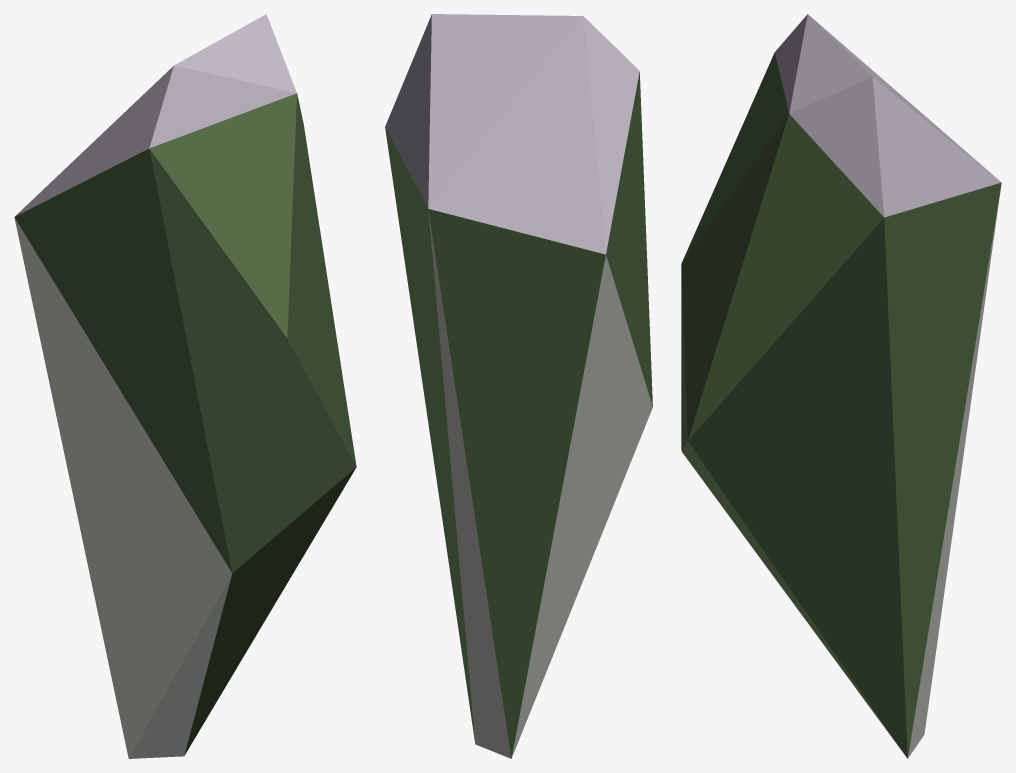
File: BirchTree_Snow_2.lod4.glb
The picture shows the model from 3 angles, left to right: view 1: azimuth 30°, elevation 25°; view 2: azimuth 150°, elevation 25°; view 3: azimuth 270°, elevation 25°; orthographic projection. The views are drawn at different scales.
Visible parts, largest first — view 1: BirchTree_Snow_2; view 2: BirchTree_Snow_2; view 3: BirchTree_Snow_2.
Boxes of the visible parts, x1,y1,x2,y2 form: BirchTree_Snow_2: (14,14,356,758); BirchTree_Snow_2: (385,14,652,758); BirchTree_Snow_2: (681,14,1001,758).
Bounding box in the file's own units: 1.52 × 4.14 × 1.68.
